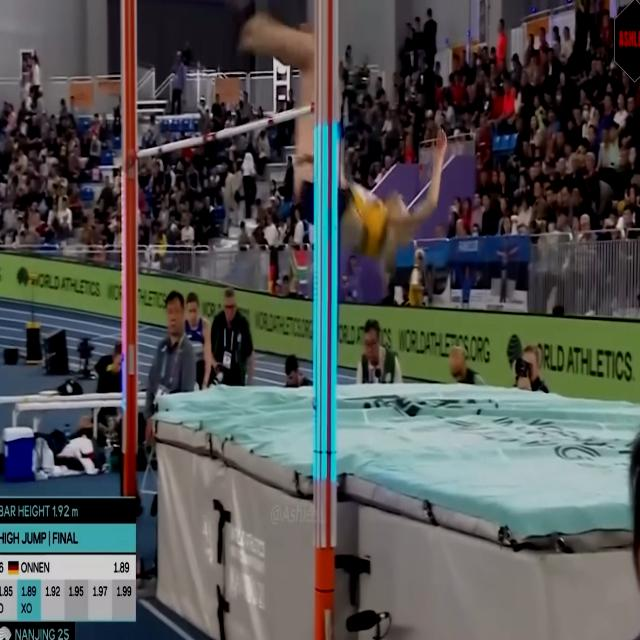land: (224, 0, 448, 259)
